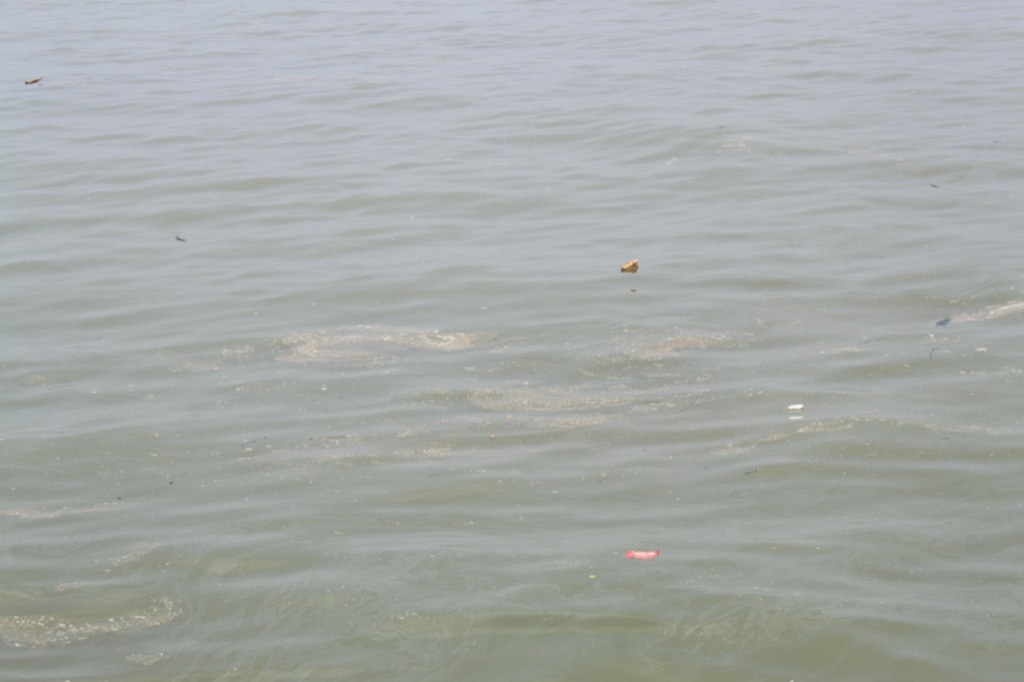organic: (165, 226, 200, 254), (926, 175, 959, 203), (925, 341, 950, 367), (932, 308, 958, 333), (712, 118, 733, 139), (109, 487, 127, 507), (161, 475, 181, 491)
plastic: (617, 538, 672, 577), (610, 254, 650, 290), (774, 394, 814, 425)
